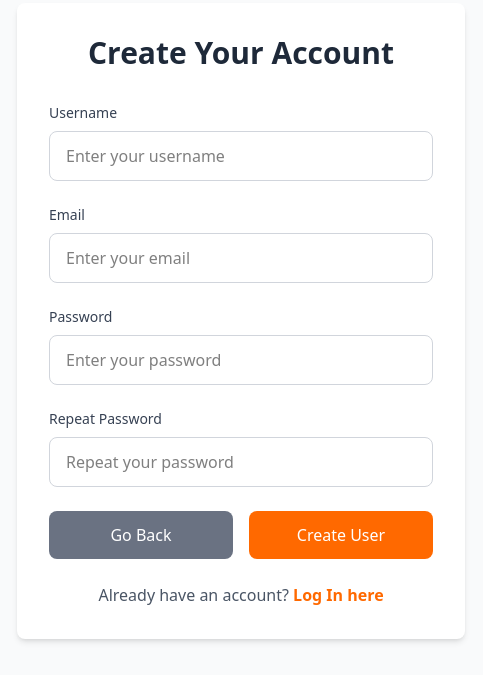
Test: Register Component › displays validation error from backend
This screenshot has width=483, height=675.
# Fill out the form
Step 1. Type "testuser" into the field labelled "Username" → (241, 156), box [49,131,433,181]
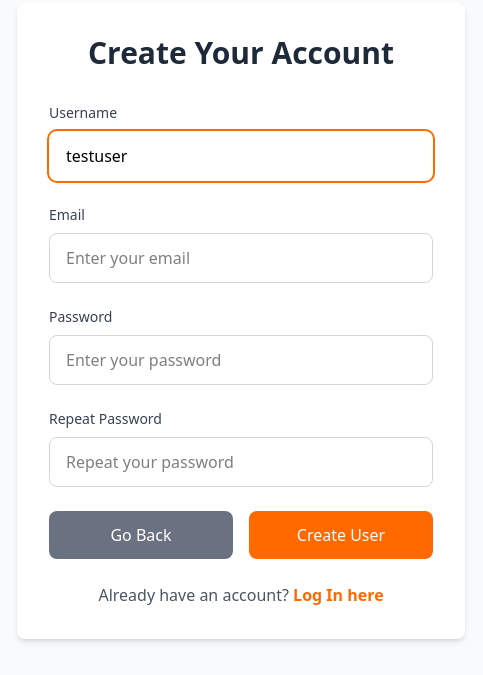
Step 2. Type "existing@example.com" into the field labelled "Email" → (241, 258), box [49,233,433,283]
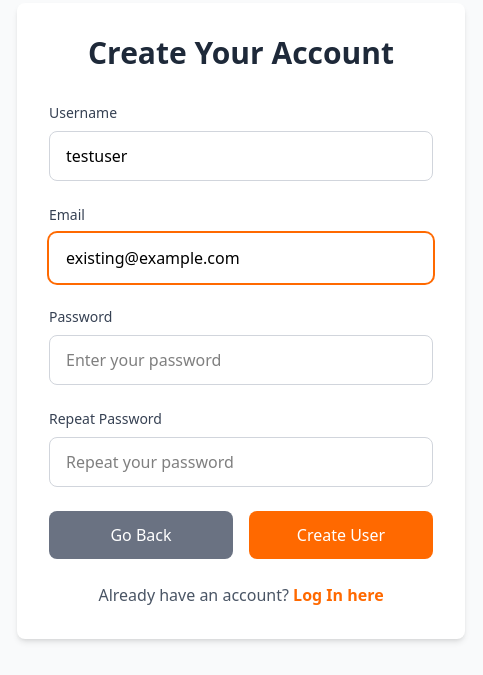
Step 3. Type "password123" into the password field labelled "Password" → (241, 360), box [49,335,433,385]
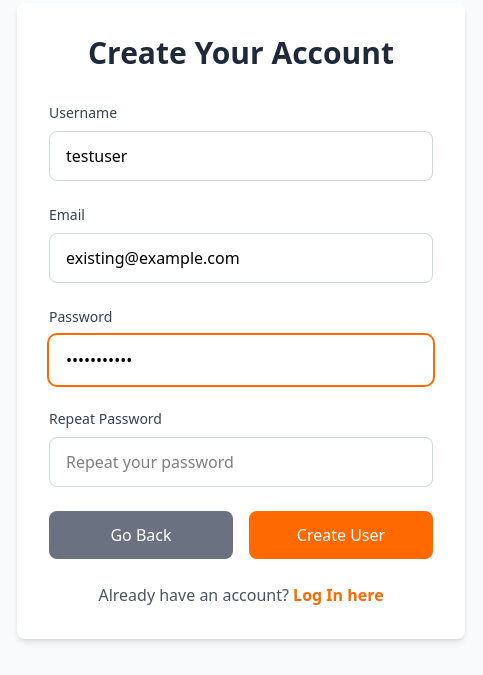
Step 4. Type "password123" into the password field labelled "Repeat Password" → (241, 462), box [49,437,433,487]
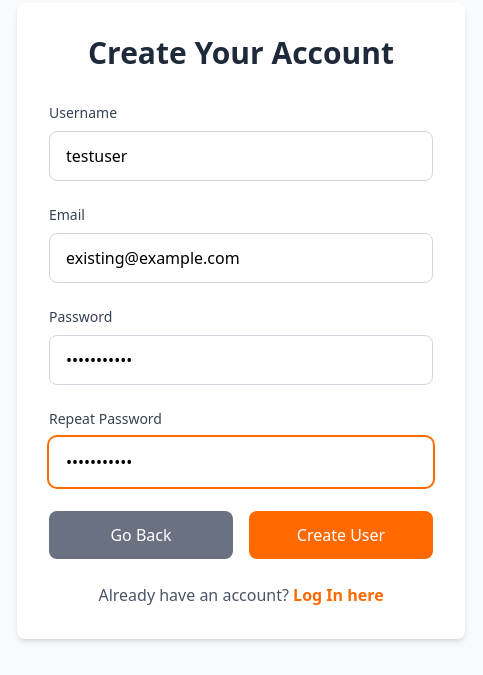
# Submit the form
Step 5. Click the button "Create User" → click(341, 535), box [249,511,433,559]
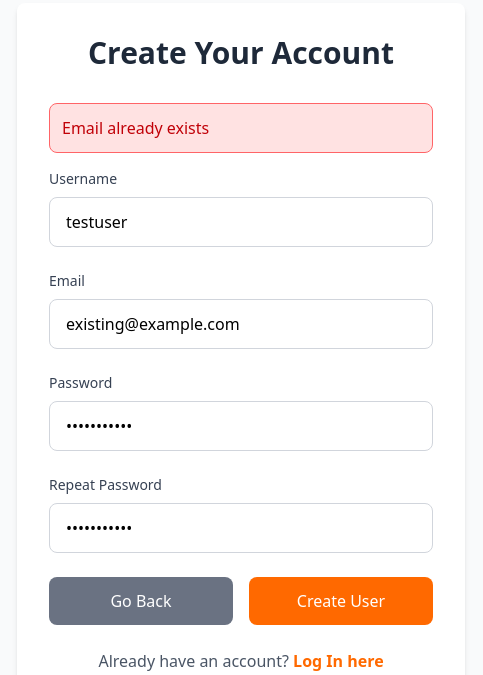
Check: the text "Email already exists" is shown, box [49,103,433,153]
